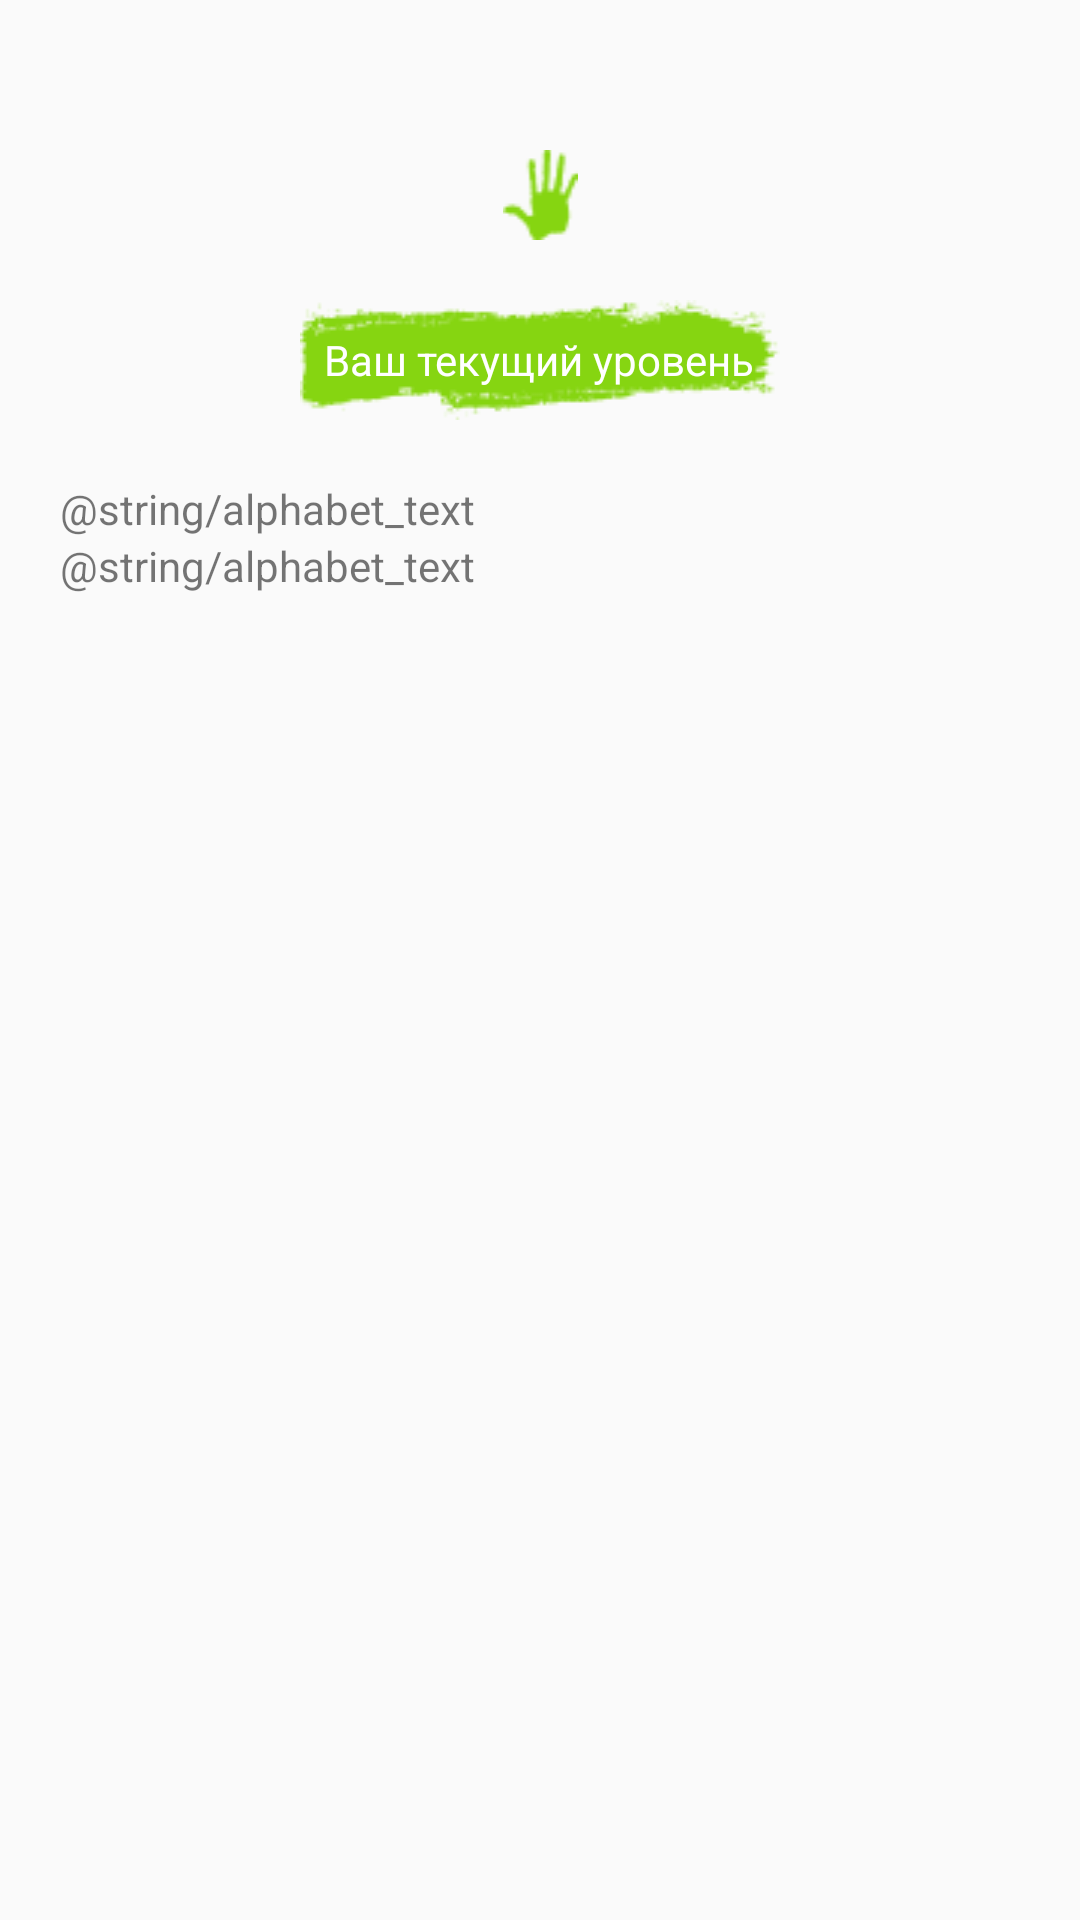

Locate icon controls on the screen. Image size 1080w x 1920h, boxes as (x1, y1, x2, y2).
handg: (503, 150, 578, 240)
